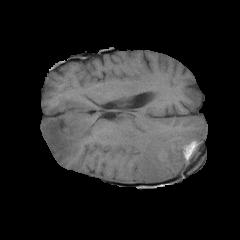glioma: (42, 113, 203, 181)
